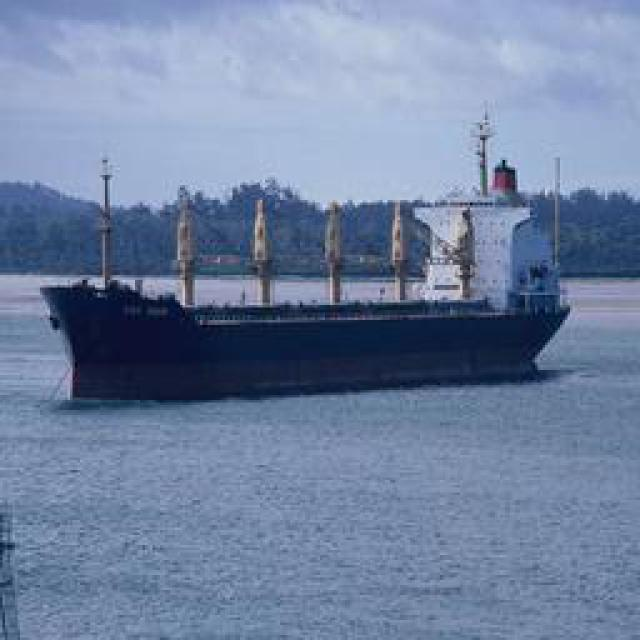Ship: (42, 151, 572, 391)
